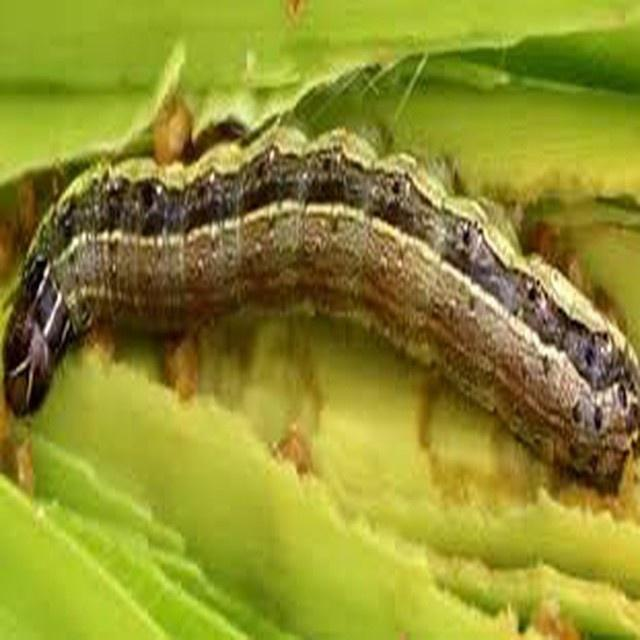gusano_cogollero: (0, 104, 640, 502)
